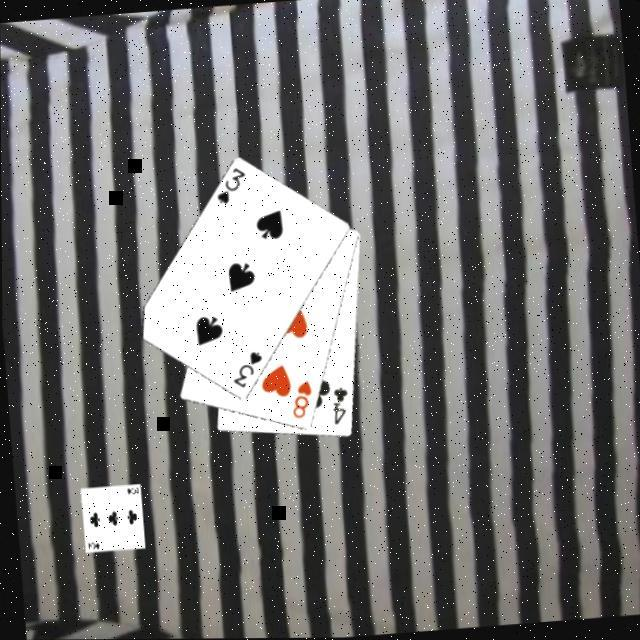3S: (226, 348, 265, 392), (210, 166, 248, 208)
4C: (326, 385, 351, 428)
8H: (286, 378, 315, 422)
